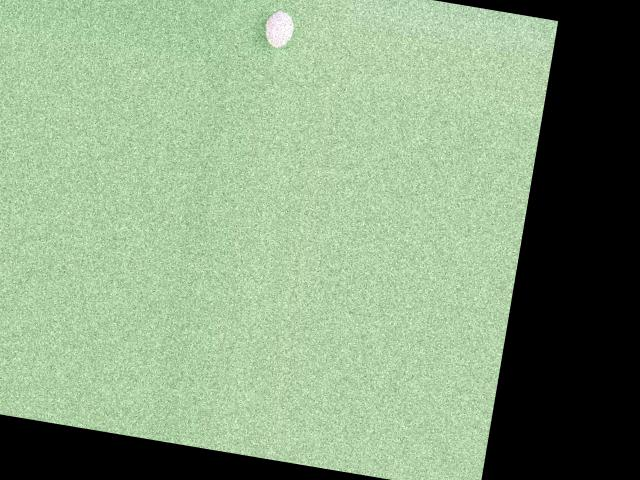egg: (262, 8, 296, 49)
